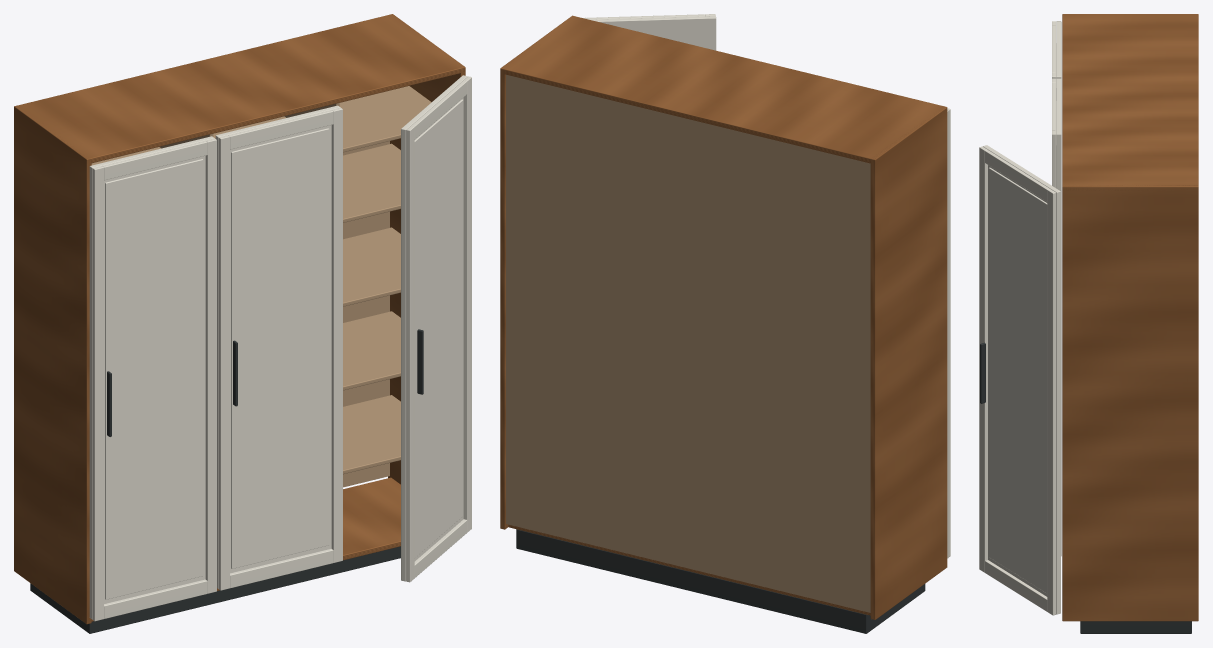
The model's file is wardrobe.glb.
3 renders of one model, left to right at view 1: azimuth 30°, elevation 25°; view 2: azimuth 150°, elevation 25°; view 3: azimuth 270°, elevation 25°, orthographic. The views are drawn at different scales.
Parts seen in each view (by area): view 1: Door 1 Recessed door panel, Door 2 Recessed door panel, Left side, Top, Door 3 Recessed door panel, Door 1 Left stile, Door 2 Left stile, Door 1 Right stile, Door 2 Right stile, Door 1 Door slab, Recessed plinth, Bottom (+17 smaller); view 2: Back, Left side, Top, Recessed plinth, Right side, Door 3 Door slab, Door 1 Left stile, Bottom, Door 1 Door slab; view 3: Right side, Top, Door 3 Recessed door panel, Door 3 Right stile, Door 3 Left stile, Door 3 Door slab, Recessed plinth, Door 2 Door slab, Door 3 Top rail, Door 3 Bottom rail, Door 3 slim handle, Door 1 Door slab.
Part boxes in pixels (<box>): Door 1 Recessed door panel: <box>105,159,203,599</box>; Door 2 Recessed door panel: <box>231,128,329,568</box>; Left side: <box>14,106,91,624</box>; Top: <box>15,14,465,163</box>; Door 3 Recessed door panel: <box>414,99,463,557</box>; Door 1 Left stile: <box>92,166,103,621</box>; Door 2 Left stile: <box>218,135,229,590</box>; Door 1 Right stile: <box>205,138,216,593</box>; Door 2 Right stile: <box>331,107,342,562</box>; Door 1 Door slab: <box>89,136,214,619</box>; Recessed plinth: <box>30,546,400,633</box>; Bottom: <box>91,477,400,621</box>; Back: <box>506,74,870,612</box>; Left side: <box>870,107,947,619</box>; Top: <box>501,15,946,163</box>; Recessed plinth: <box>516,529,925,633</box>; Right side: <box>500,18,568,529</box>; Door 3 Door slab: <box>590,16,716,50</box>; Door 1 Left stile: <box>947,108,950,557</box>; Bottom: <box>508,525,870,615</box>; Door 1 Door slab: <box>947,110,948,558</box>; Right side: <box>1062,184,1198,621</box>; Top: <box>1062,14,1198,190</box>; Door 3 Recessed door panel: <box>988,167,1047,593</box>; Door 3 Right stile: <box>1047,189,1056,615</box>; Door 3 Left stile: <box>979,146,987,572</box>; Door 3 Door slab: <box>983,145,1060,614</box>; Recessed plinth: <box>1080,621,1191,633</box>; Door 2 Door slab: <box>1056,78,1061,556</box>; Door 3 Top rail: <box>985,150,1049,201</box>; Door 3 Bottom rail: <box>985,560,1047,611</box>; Door 3 slim handle: <box>980,342,985,403</box>; Door 1 Door slab: <box>1056,21,1061,78</box>.
Bounding box in the file's own units: 1.81 × 2.2 × 0.9651.
4 materials, 1 textured.
